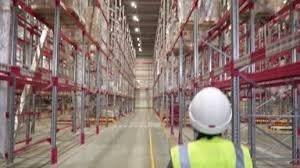helmet: (185, 85, 231, 131)
person with full safety: (170, 85, 254, 168)
safety vest: (173, 136, 251, 168)
